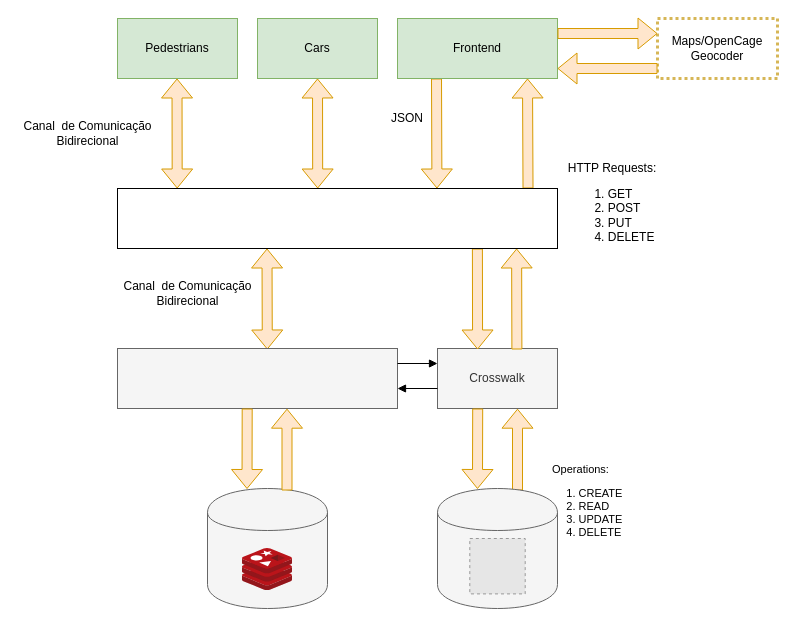
Some shapes in this 796 by 626 pixel diagram are drawn without their labels. Grey dashed boxes stand in for pictures. Each missing label, with the centre of its shape:
API Gateway Interface RESTful: pixel 337 218
Manage Proximity: pixel 257 378
